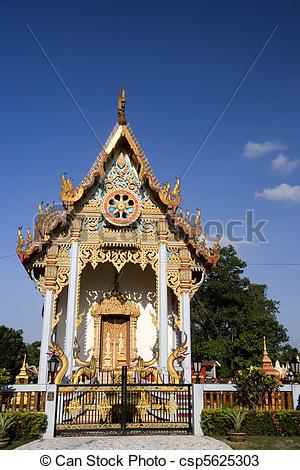Buddhist Temple: (21, 85, 209, 404)
